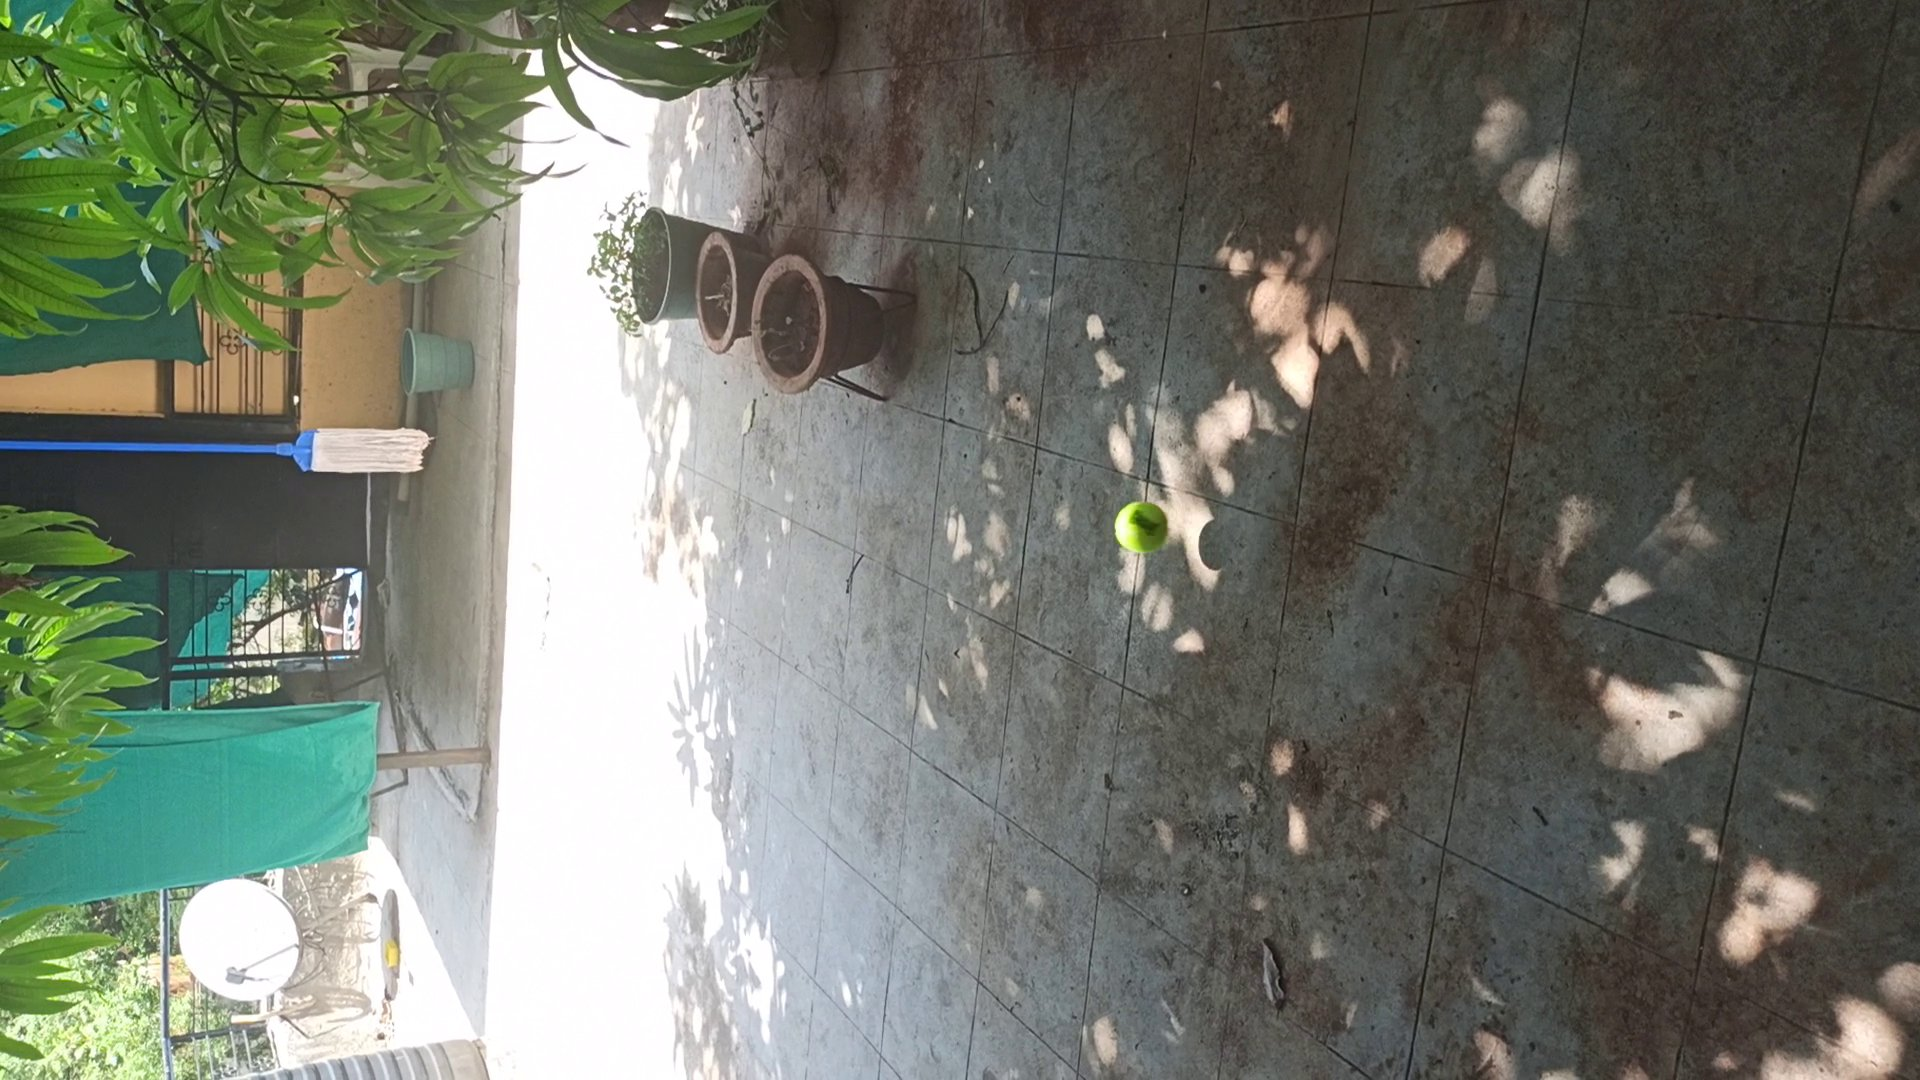Tennis-Ball: (1116, 502, 1168, 553)
